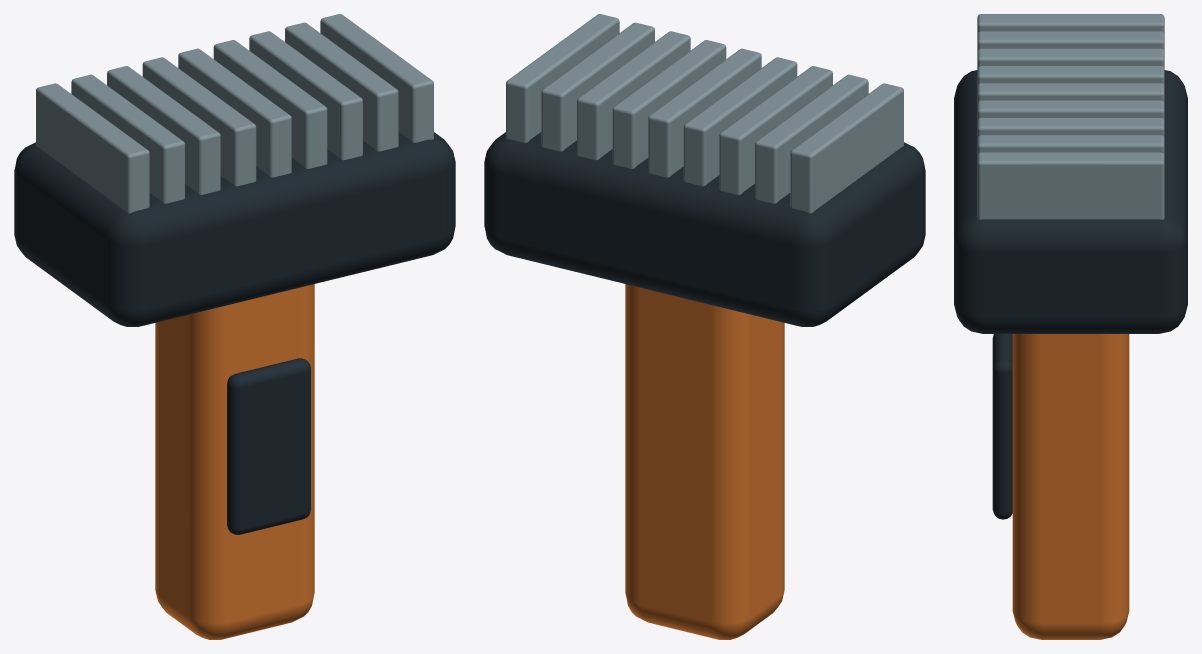
Rendered from eva-tool.glb.
3 renders of one model, left to right at view 1: azimuth 30°, elevation 25°; view 2: azimuth 150°, elevation 25°; view 3: azimuth 270°, elevation 25°, orthographic.
Visible parts, largest first — view 1: dark, metal, orange; view 2: dark, orange, metal; view 3: metal, dark, orange.
Part boxes in pixels (<box>): dark: <box>14,132,455,534</box>; metal: <box>36,14,433,213</box>; orange: <box>155,284,314,639</box>; dark: <box>484,132,925,326</box>; orange: <box>625,284,784,639</box>; metal: <box>506,14,903,213</box>; metal: <box>977,14,1164,219</box>; dark: <box>954,70,1187,519</box>; orange: <box>1012,334,1129,639</box>.
Size of the model in its own units: 0.34 by 0.5025 by 0.2.
